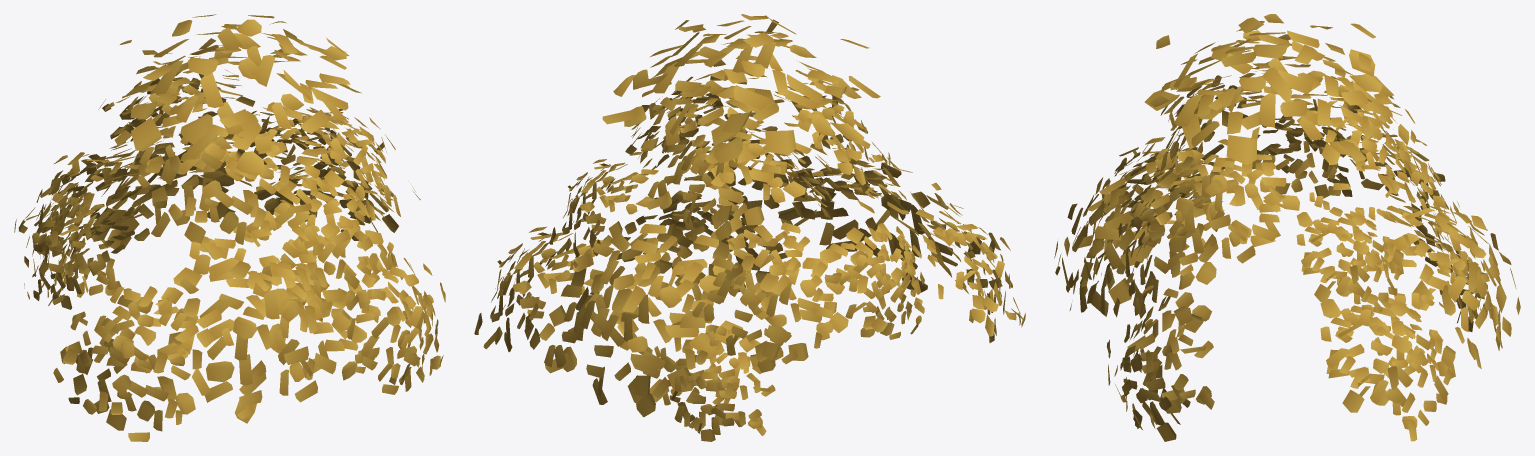
File: environment_tree_variation_b_foliage.fbx
The picture shows the model from 3 angles, left to right: view 1: azimuth 30°, elevation 25°; view 2: azimuth 150°, elevation 25°; view 3: azimuth 270°, elevation 25°; orthographic projection.
Visible parts, largest first — view 1: polySurface97; view 2: polySurface97; view 3: polySurface97.
Boxes of the visible parts, bbox=[...] form: polySurface97: bbox=[14, 14, 445, 441]; polySurface97: bbox=[474, 14, 1025, 441]; polySurface97: bbox=[1054, 14, 1520, 441].
Bounding box in the file's own units: 1646 × 1292 × 1538.
